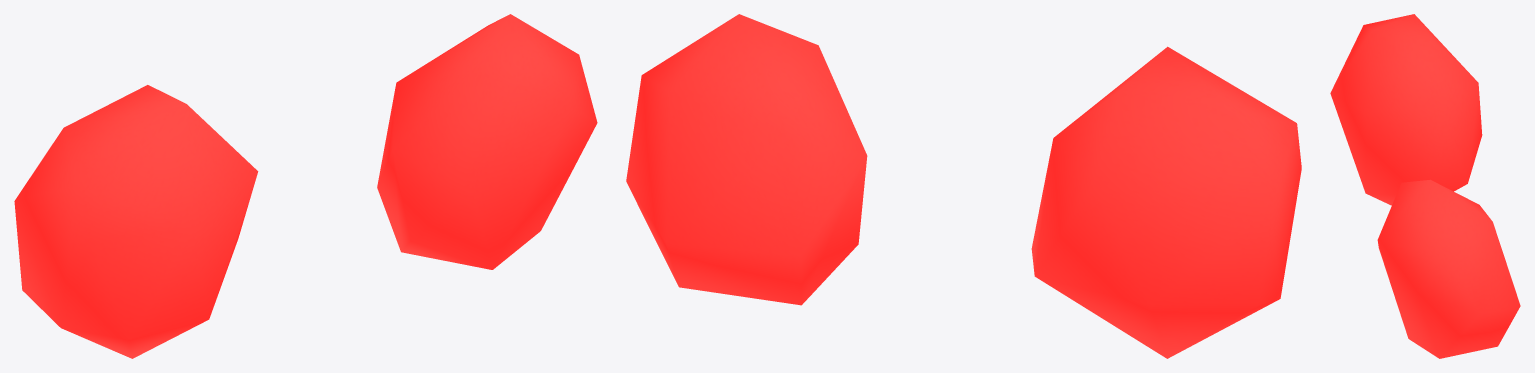
File: zombie eyes.glb
3 views of the same model, side by side, from view 1: azimuth 30°, elevation 25°; view 2: azimuth 150°, elevation 25°; view 3: azimuth 270°, elevation 25° (orthographic). The views are drawn at different scales.
Visible parts, largest first — view 1: eyes_zombie.001; view 2: eyes_zombie.001; view 3: eyes_zombie.001.
Boxes of the visible parts, box(x1,y1,x2,y2) form: eyes_zombie.001: box(14, 14, 597, 358); eyes_zombie.001: box(626, 14, 1301, 358); eyes_zombie.001: box(1330, 14, 1520, 358).
Bounding box in the file's own units: 0.0551 × 0.0244 × 0.0217.
1 material, 1 textured.
